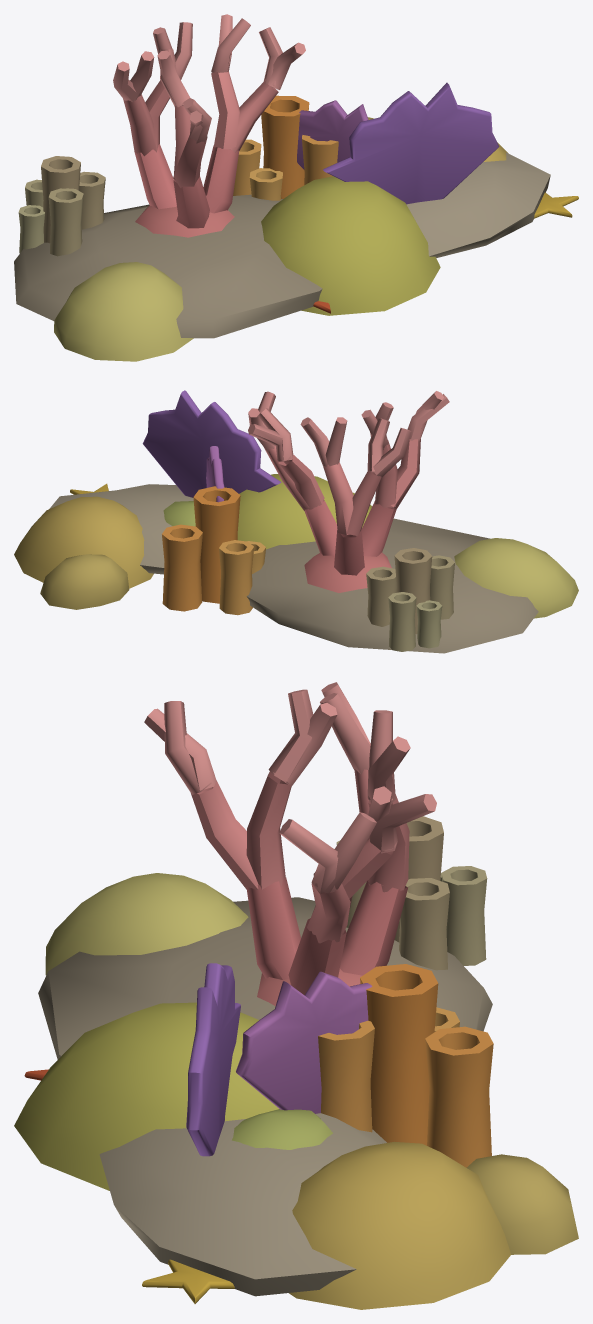
Rendered from coral-reef-a.glb.
3 views of the same model, one above another, from view 1: azimuth 30°, elevation 25°; view 2: azimuth 150°, elevation 25°; view 3: azimuth 270°, elevation 25° (orthographic). The views are drawn at different scales.
Parts seen in each view (by area): view 1: coral-reef-a; view 2: coral-reef-a; view 3: coral-reef-a.
Boxes of the visible parts, x1,y1,x2,y2 form: coral-reef-a: [14, 14, 578, 361]; coral-reef-a: [14, 390, 578, 653]; coral-reef-a: [14, 682, 578, 1309].
Bounding box in the file's own units: 3.27 × 1.31 × 1.96.
